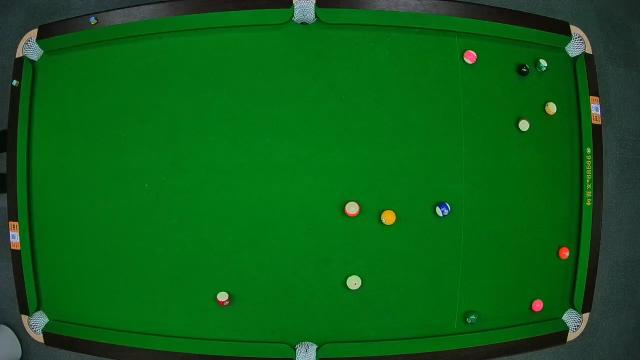bag1: (22, 38, 44, 60)
bag2: (291, 0, 317, 26)
bag3: (566, 29, 588, 57)
bag4: (29, 310, 49, 334)
bag5: (294, 340, 318, 360)
bag6: (563, 308, 585, 332)
ball0: (346, 275, 362, 291)
ball1: (380, 210, 396, 226)
ball10: (435, 202, 451, 218)
ball11: (216, 292, 230, 306)
ball12: (464, 50, 478, 66)
ball13: (344, 200, 361, 218)
ball14: (536, 59, 548, 73)
ball15: (518, 116, 530, 132)
ball4: (529, 299, 543, 313)
ball5: (558, 246, 570, 262)
ball6: (462, 312, 478, 324)
ball8: (516, 62, 532, 77)
ball9: (544, 101, 558, 115)
